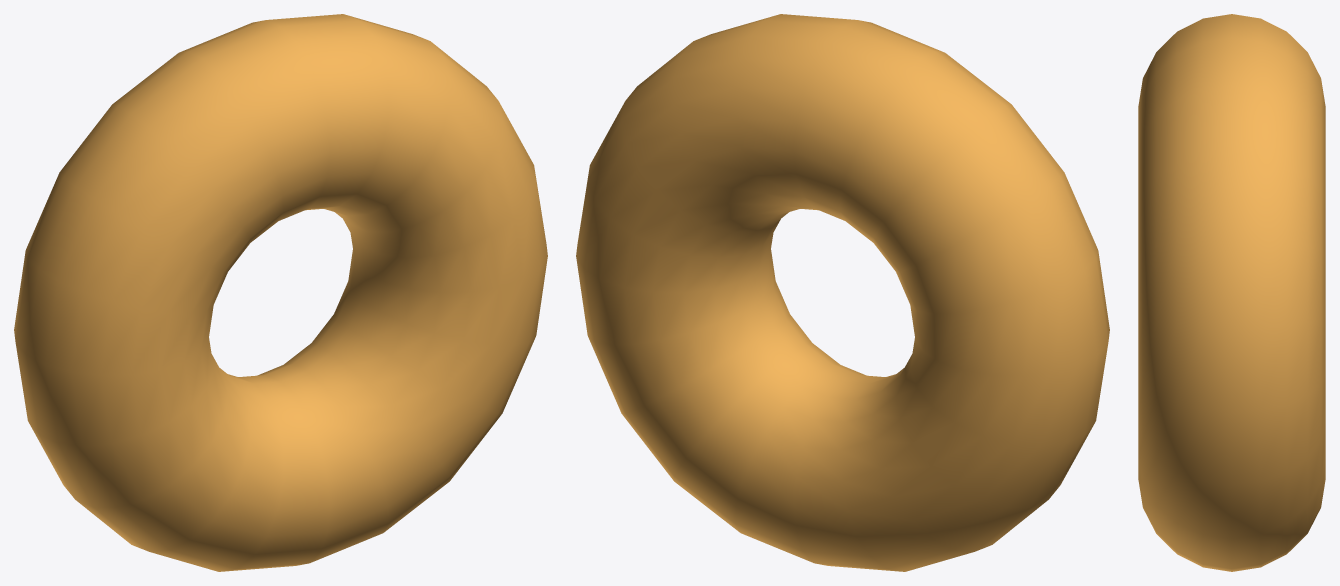
The model's file is Donuts.fbx.
3 renders of one model, left to right at view 1: azimuth 30°, elevation 25°; view 2: azimuth 150°, elevation 25°; view 3: azimuth 270°, elevation 25°, orthographic. The views are drawn at different scales.
Visible parts, largest first — view 1: pTorus1; view 2: pTorus1; view 3: pTorus1.
Boxes of the visible parts, box(x1,y1,x2,y2) form: pTorus1: box(14, 14, 547, 571); pTorus1: box(576, 14, 1109, 571); pTorus1: box(1138, 14, 1325, 571).
Bounding box in the file's own units: 3 × 3 × 1.
1 material, 1 textured.
